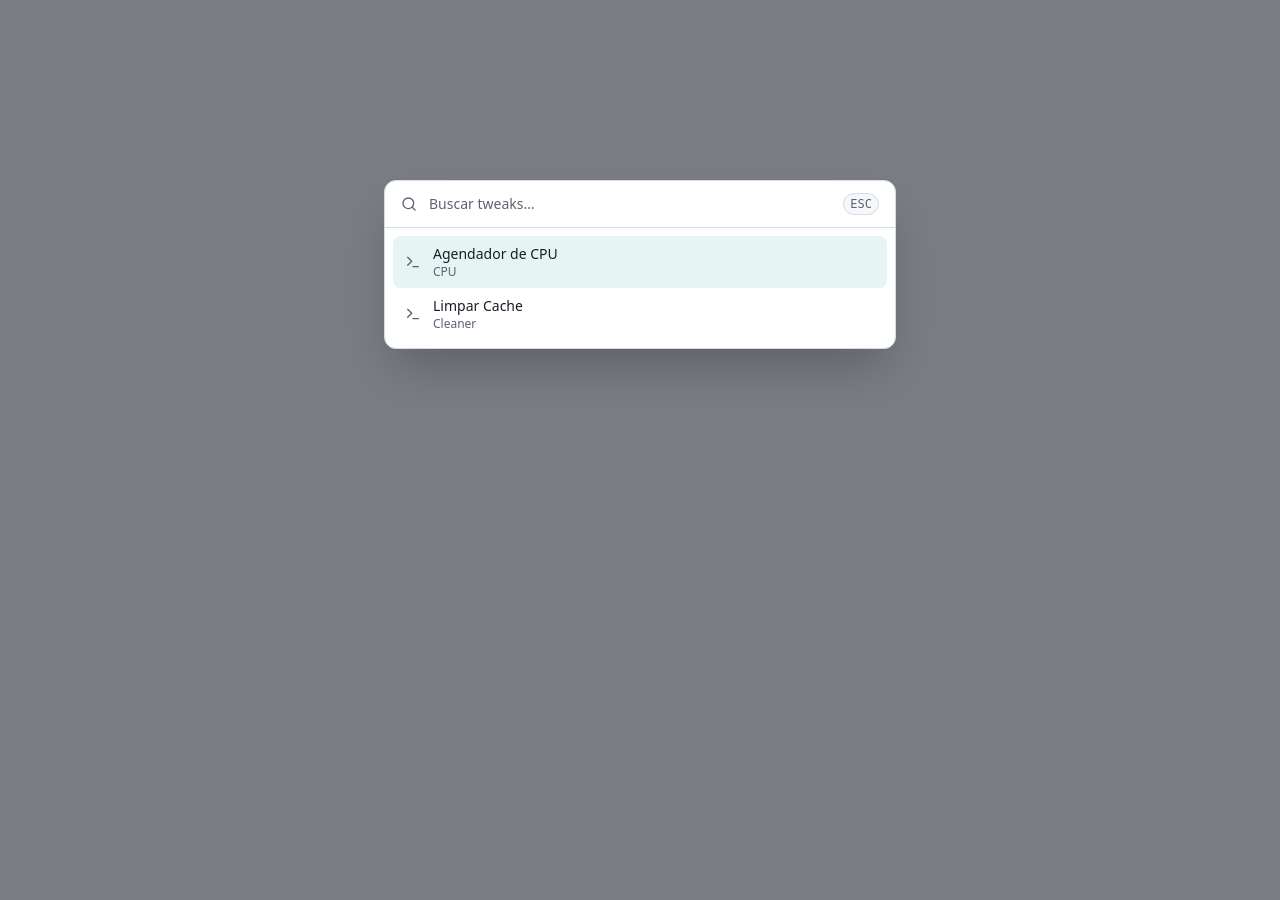
Test: CommandPalette — busca › mostra a mensagem de vazio quando nada casa
The width and height of the screenshot is (1280, 900).
Type "zzz" into the dropdown with placeholder "Buscar tweaks…".
click(630, 204); type("zzz")  # box [429,194,831,214]
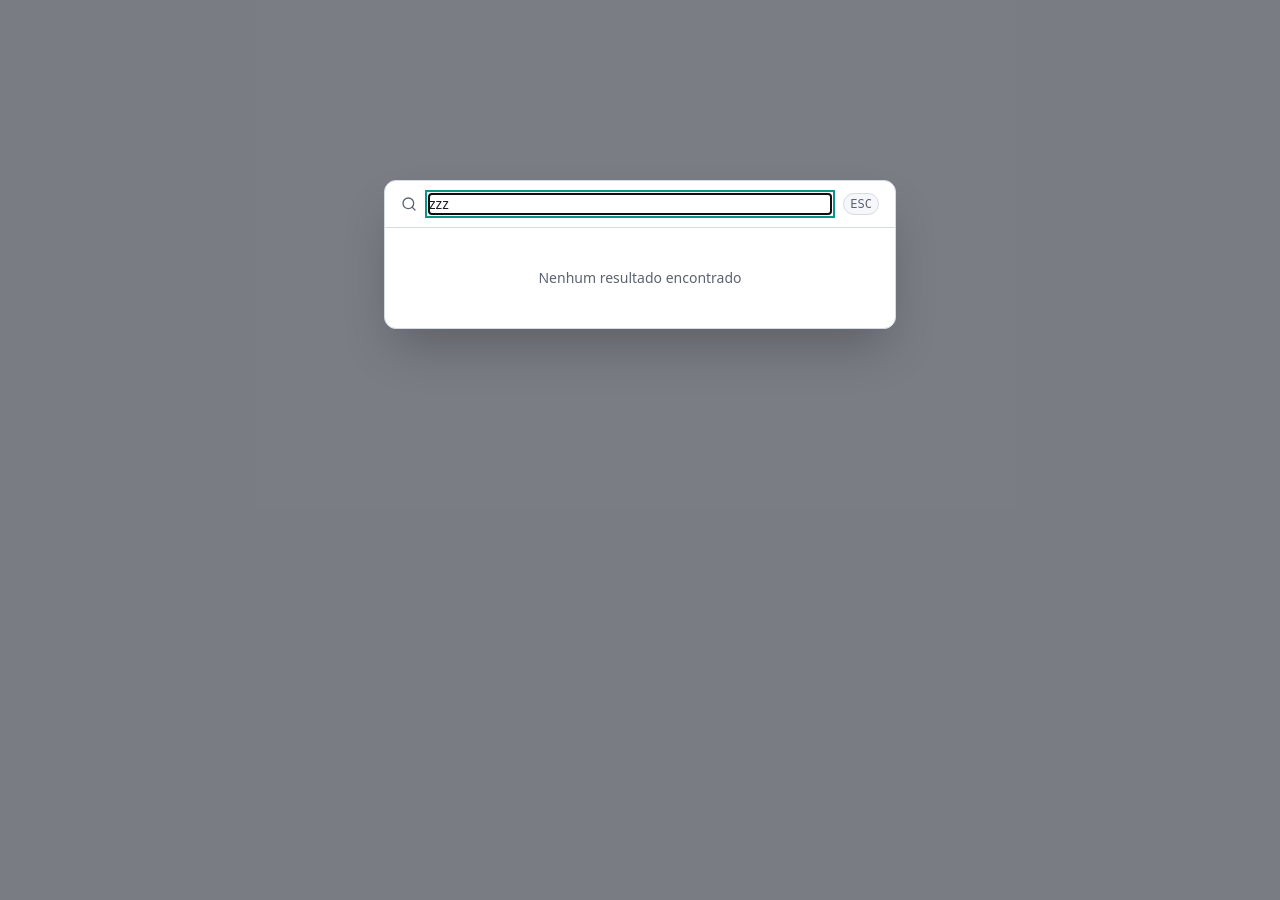
Expected: the text "Nenhum resultado encontrado" is shown, [538,268,742,287]
Expected: the option "Agendador de CPU" is gone
